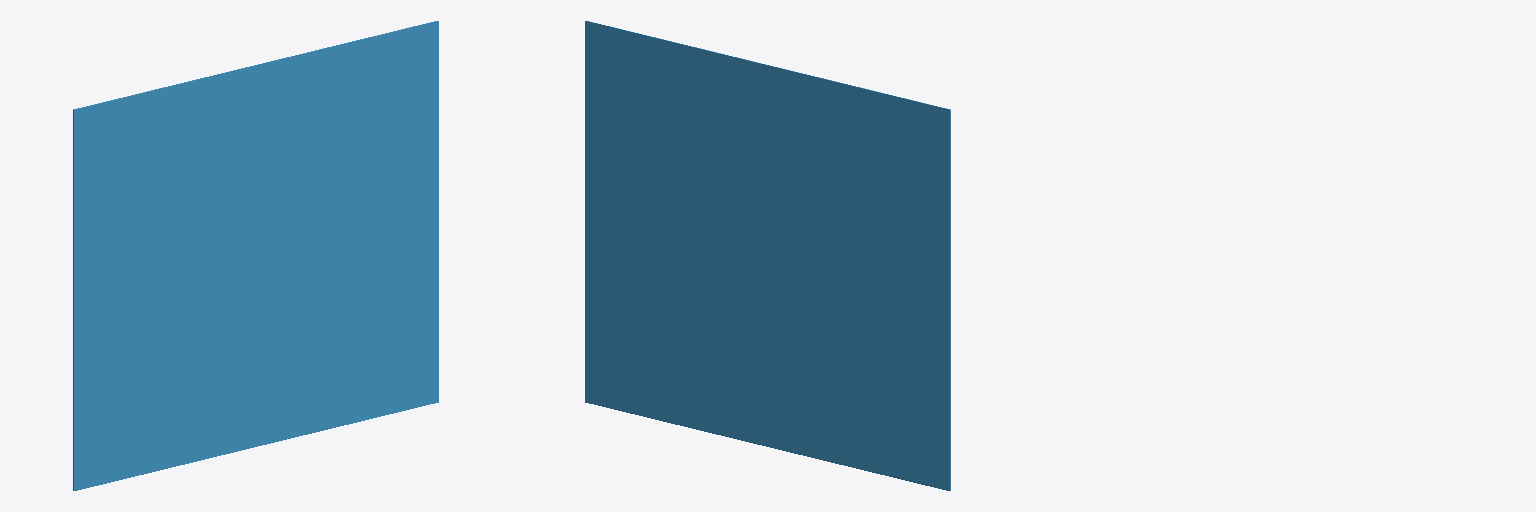
URDF robot description (ground_skeleton):
<?xml version="1.0"?>
<robot name="ground_skeleton">
    <link name="world" />
    <link name="ground_link">
        <inertial>
            <mass value="1.0" />
            <origin xyz="0 0 0" rpy="0 0 0" />
            <inertia ixx="1.0" ixy="0" ixz="0" iyy="1.0" iyz="0" izz="1.0" />
        </inertial>
        <visual>
            <origin xyz="0 -1 0" rpy="0 -0 0" />
            <geometry>
                <box size="25 0.05 25" />
            </geometry>
        </visual>
        <collision group="default">
            <origin xyz="0 -1 0" rpy="0 -0 0" />
            <geometry>
                <box size="25 0.05 25" />
            </geometry>
        </collision>
    </link>
    <joint name="ground_joint" type="fixed">
        <origin xyz="0 0 0" rpy="0 0 0" />
        <parent link="world" />
        <child link="ground_link" />
    </joint>
</robot>

--- Facts derived from the render (not from the file) ---
Views: 3 orthographic renders of the robot side by side, from view 1: azimuth 30°, elevation 25°; view 2: azimuth 150°, elevation 25°; view 3: azimuth 270°, elevation 25°.
Model ground_skeleton with 2 links and 1 joints (1 fixed), rooted at world, posed every joint at zero.
Visible links, largest first — view 1: ground_link; view 2: ground_link; view 3: none.
Boxes of the visible links, x1,y1,x2,y2 form: ground_link: (73,21,438,490); ground_link: (585,21,950,490).
Bounding box of the posed robot: 25 × 0.05 × 25 m (x, y, z).
Geometry: primitives only (box / cylinder / sphere), no mesh files.